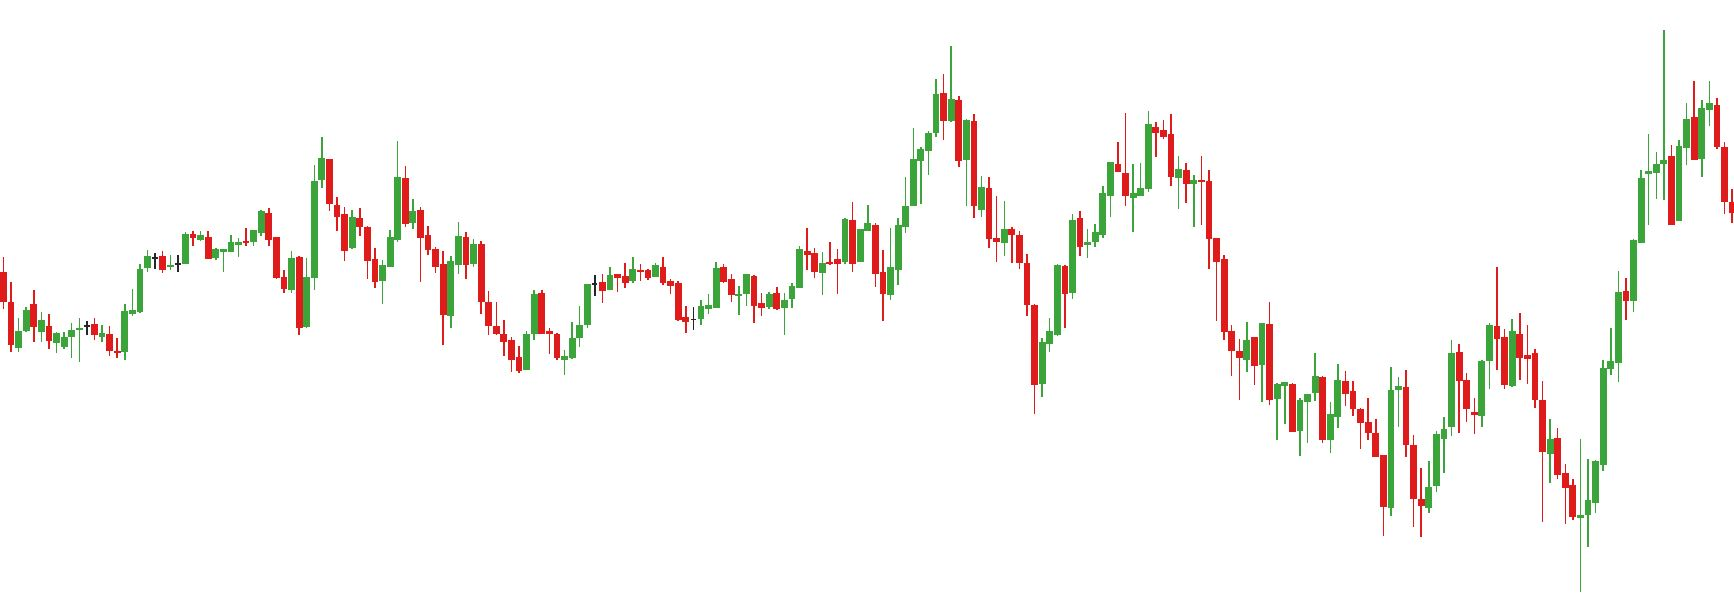buy: (438, 268, 531, 377), (1380, 416, 1433, 540), (832, 234, 895, 326), (740, 276, 788, 340)
sell: (1446, 263, 1511, 418), (257, 136, 340, 238), (1120, 109, 1166, 173)
